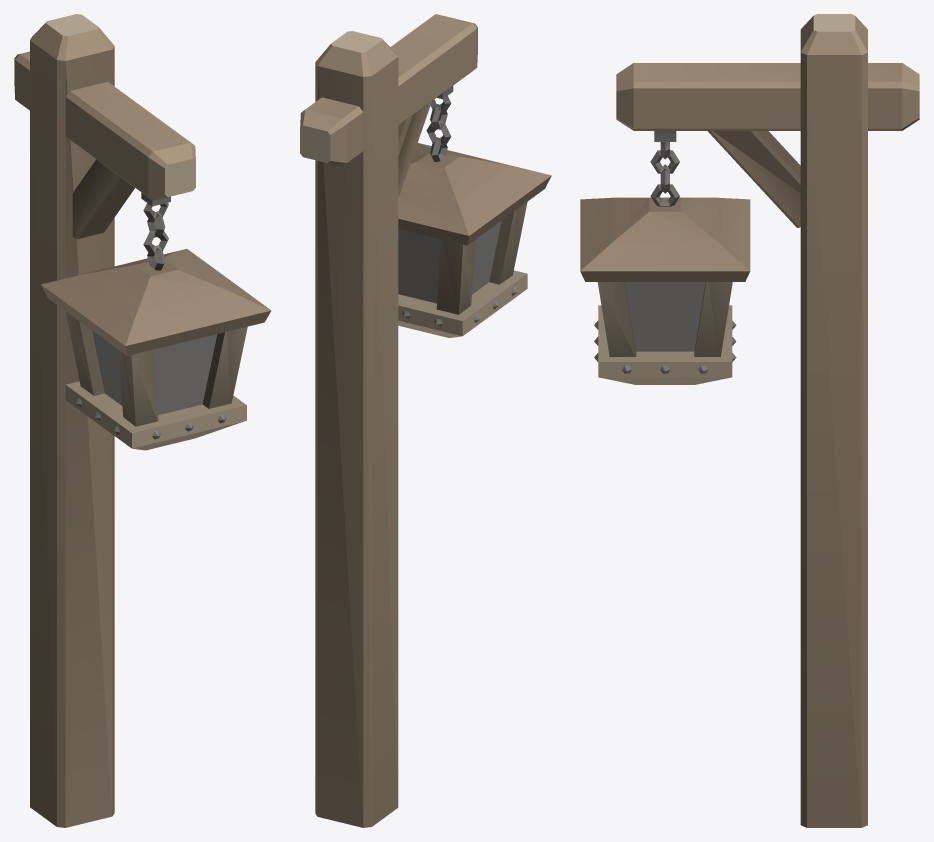
Rendered from lantern.glb.
3 renders of one model, left to right at view 1: azimuth 30°, elevation 25°; view 2: azimuth 150°, elevation 25°; view 3: azimuth 270°, elevation 25°, orthographic. The views are drawn at different scales.
Parts seen in each view (by area): view 1: lantern.001; view 2: lantern.001; view 3: lantern.001.
Part boxes in pixels (<box>): lantern.001: <box>14,14,271,827</box>; lantern.001: <box>300,14,551,827</box>; lantern.001: <box>580,14,919,827</box>.
Bounding box in the file's own units: 0.6084 × 3.12 × 1.21.
